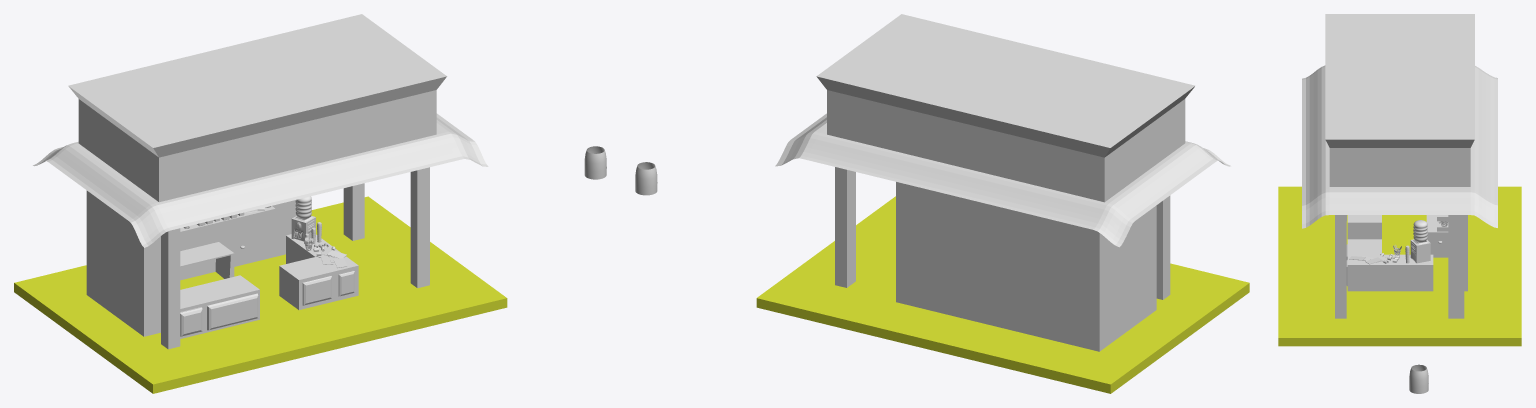
Rendered from Cafee-003-V2.fbx.
3 views of the same model, side by side, from view 1: azimuth 30°, elevation 25°; view 2: azimuth 150°, elevation 25°; view 3: azimuth 270°, elevation 25° (orthographic). The views are drawn at different scales.
Parts seen in each view (by area): view 1: roof, Base, Base.001, Cube, Pillar, Cube.014, Cube.012, Wrapper; view 2: roof, Base.001, Base, Pillar, Wrapper; view 3: roof, Base, Cube, Pillar, Cube.014, Wrapper, Plane.008, Base.001, Cube.002.
Boxes of the visible parts, left/top/right/bottom form: roof: left=33, top=14, right=488, bottom=247; Base: left=14, top=196, right=507, bottom=393; Base.001: left=86, top=190, right=296, bottom=336; Cube: left=180, top=234, right=358, bottom=338; Pillar: left=161, top=167, right=429, bottom=349; Cube.014: left=180, top=242, right=234, bottom=280; Cube.012: left=180, top=206, right=275, bottom=236; Wrapper: left=584, top=146, right=606, bottom=179; roof: left=775, top=14, right=1230, bottom=247; Base.001: left=896, top=182, right=1156, bottom=351; Base: left=756, top=196, right=1249, bottom=393; Pillar: left=835, top=167, right=1170, bottom=299; Wrapper: left=635, top=162, right=657, bottom=195; roof: left=1302, top=14, right=1497, bottom=228; Base: left=1278, top=186, right=1521, bottom=346; Cube: left=1346, top=215, right=1433, bottom=291; Pillar: left=1335, top=215, right=1464, bottom=318; Cube.014: left=1426, top=215, right=1448, bottom=257; Wrapper: left=1409, top=364, right=1428, bottom=393; Plane.008: left=1410, top=239, right=1430, bottom=263; Base.001: left=1464, top=215, right=1467, bottom=291; Cube.002: left=1413, top=220, right=1427, bottom=242.
Bounding box in the file's own units: 14.59 × 37.05 × 16.74.
